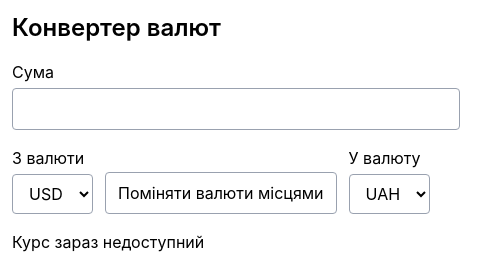
Test: Converter rate states › replaces the unavailable message with a dash and a new request on a change of pair
Expected: the text "Курс зараз недоступний" is shown, [12,232,204,252]
Select "EUR" in the dropdown labelled "З валюти" at (52, 194), box [12,174,93,214]
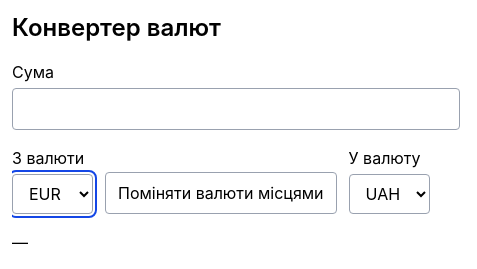
Expected: the text "—" is shown, [12,232,28,252]
Expected: the text "Курс зараз недоступний" is gone
